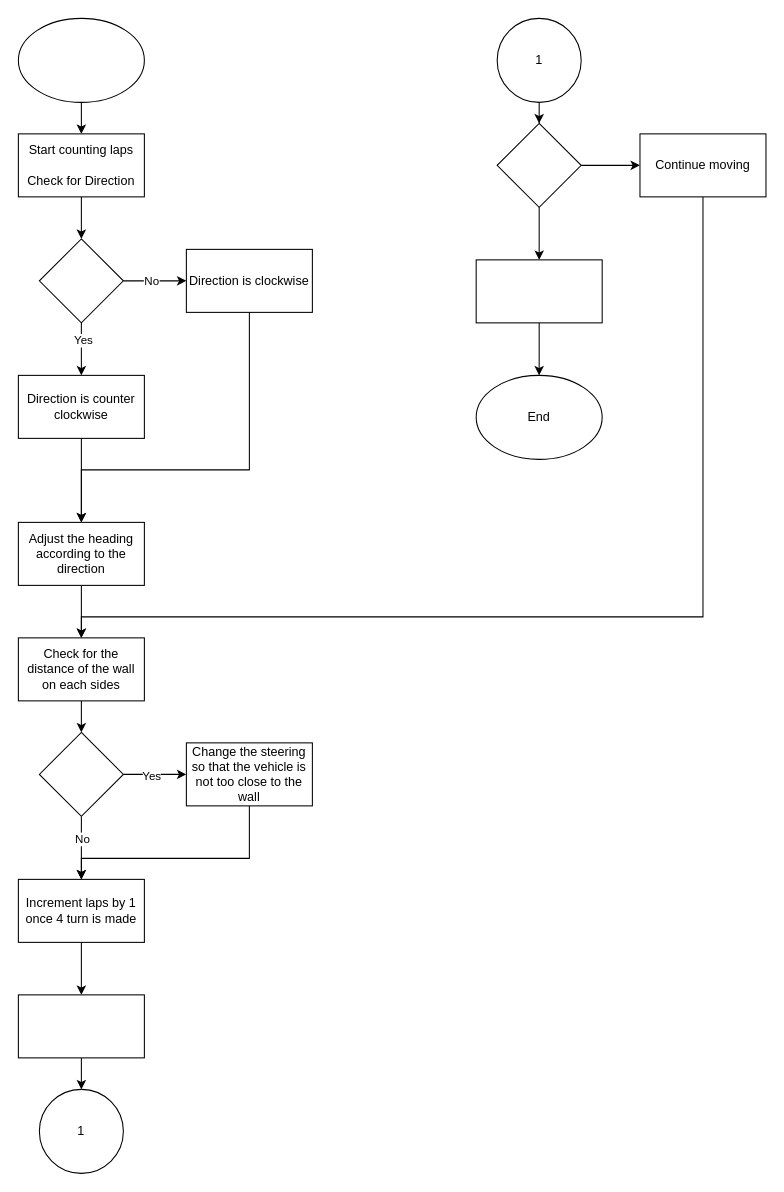
The diagram is 784 pixels wide and 1192 high, and some of its shapes have lost their labels. Here are the shapes that lost their labels. From the top down, the box of each, then its label:
(17, 17, 144, 102): Start
(496, 122, 581, 207): Is the laps equal to 3?
(38, 238, 123, 323): Is blue line first?
(475, 259, 602, 323): Stop
(38, 731, 123, 816): Is the wall too close?
(17, 994, 144, 1058): Chack for number of laps
